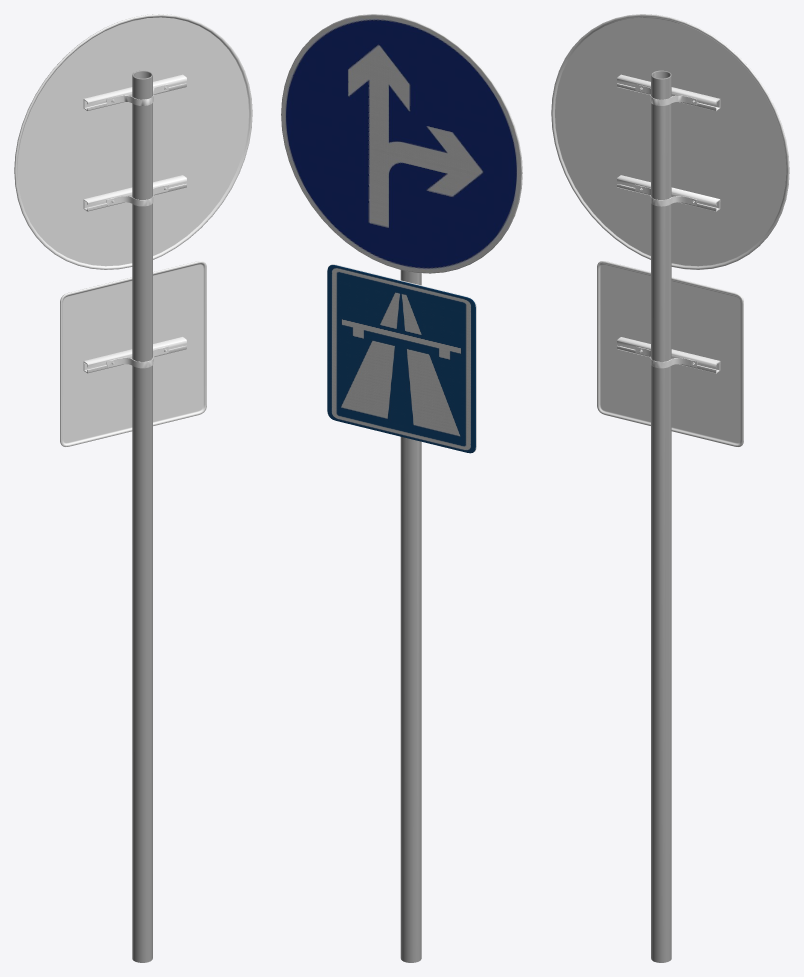
Rendered from o3_segnale_04.glb.
3 renders of one model, left to right at view 1: azimuth 30°, elevation 25°; view 2: azimuth 150°, elevation 25°; view 3: azimuth 330°, elevation 25°, orthographic.
Parts seen in each view (by area): view 1: sb_modello; view 2: sb_modello; view 3: sb_modello.
Boxes of the visible parts, x1,y1,x2,y2 form: sb_modello: (14, 14, 252, 962); sb_modello: (281, 14, 522, 962); sb_modello: (551, 14, 789, 962).
Size of the model in its own units: 0.7672 by 2.88 by 0.0845.
6 materials, 2 textured.
